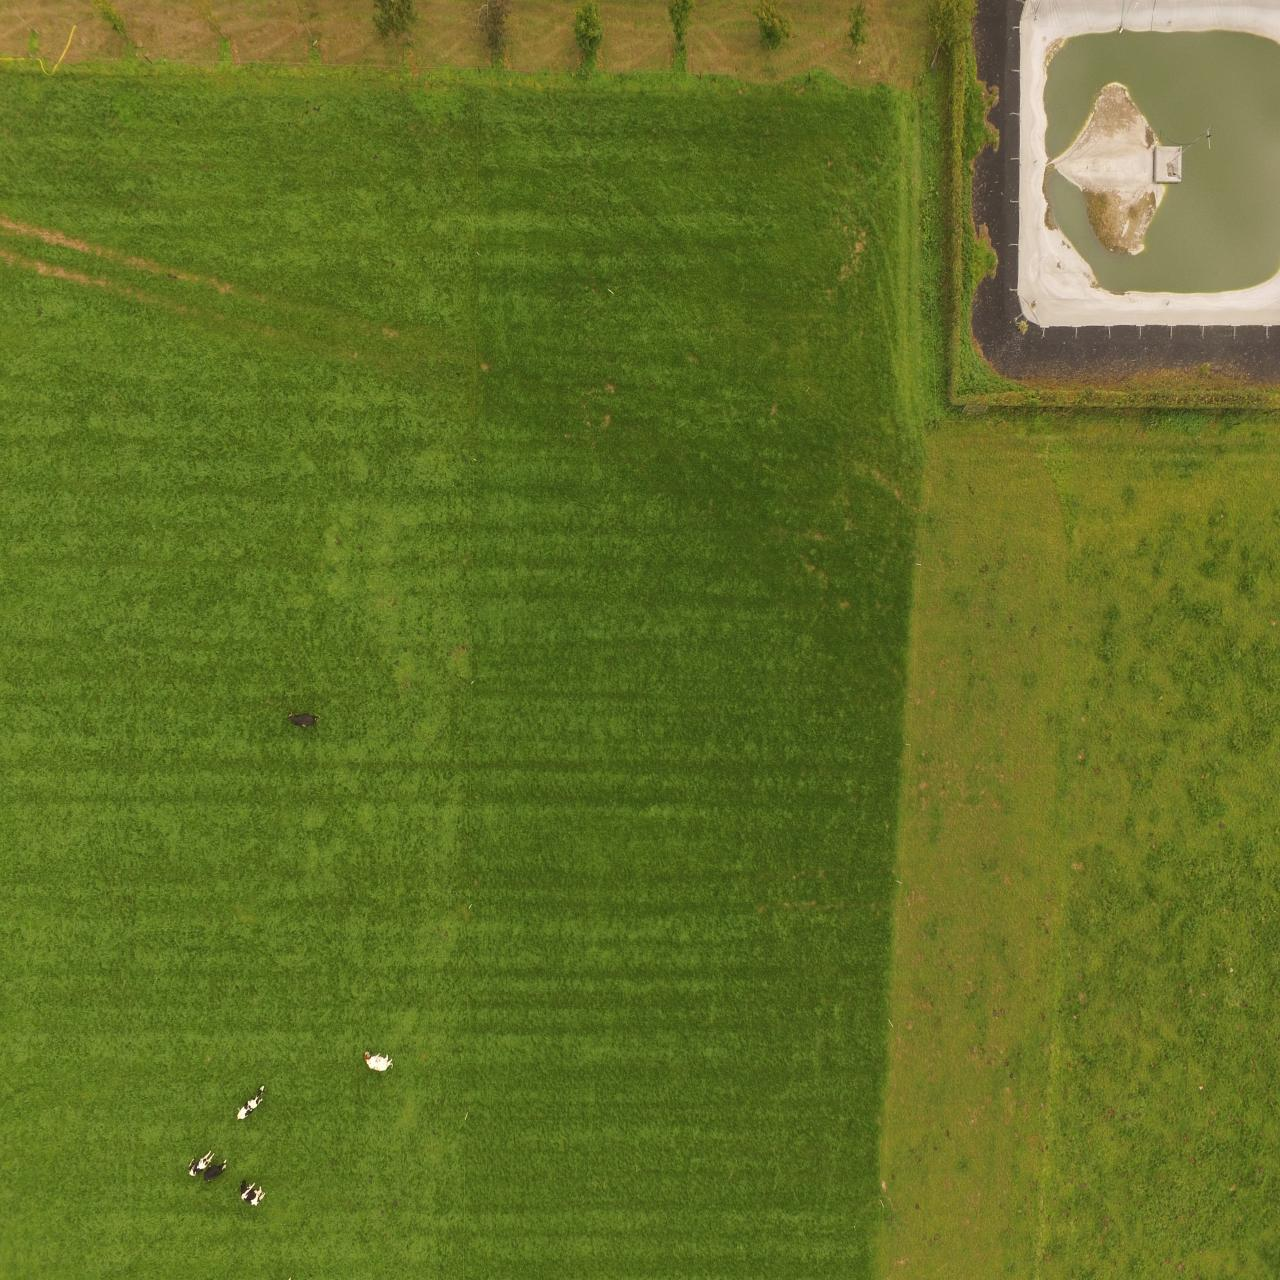cow: (231, 1084, 266, 1123), (188, 1146, 216, 1178), (362, 1048, 395, 1074), (285, 709, 322, 729), (200, 1159, 230, 1184), (240, 1180, 266, 1207)
